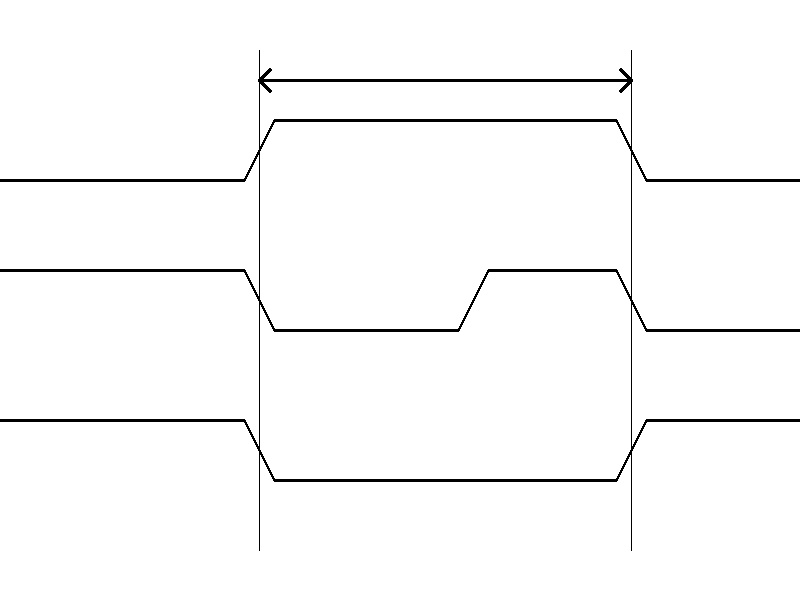double_arrow: (259, 65, 631, 95)
